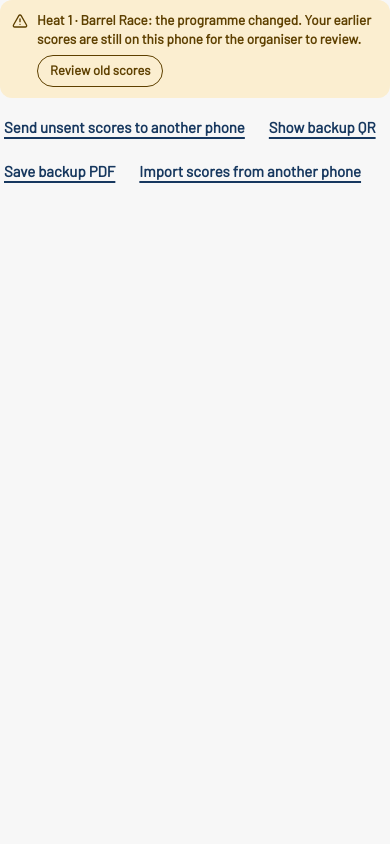
Test: ScoreOutboxPanel › when the programme changed › can close with Escape and reopen the retained scores
Click the button "Review old scores". click: {"x": 100, "y": 71}
box: [37, 55, 164, 87]
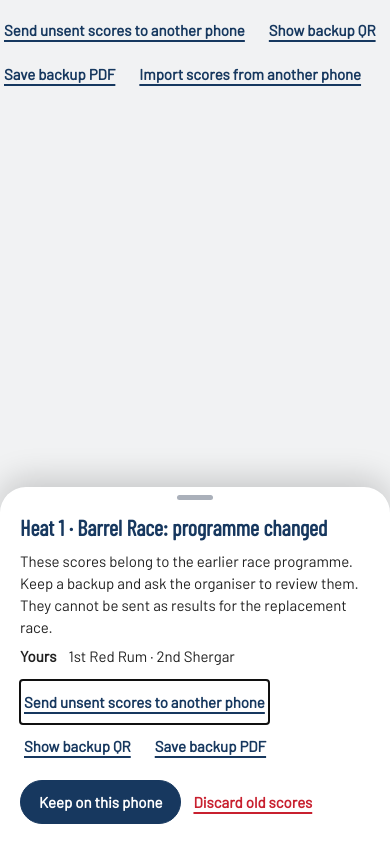
Result: the text "1st Red Rum · 2nd Shergar" is shown at [68, 647, 235, 665]
